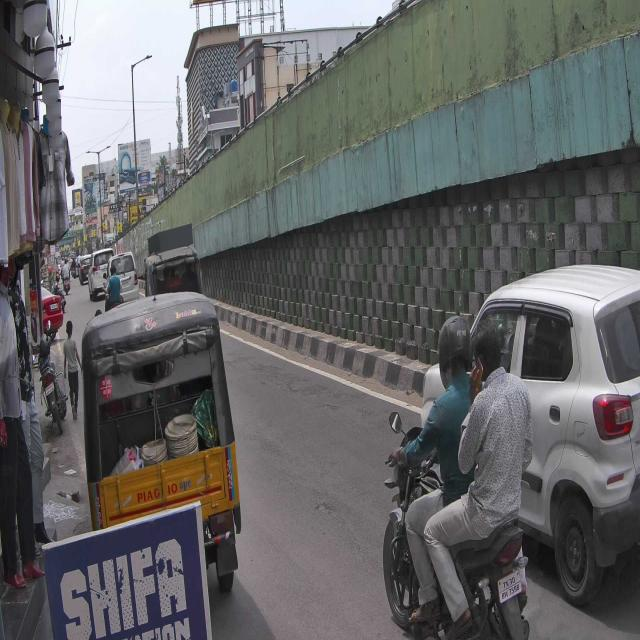double_rider: (381, 313, 532, 640)
